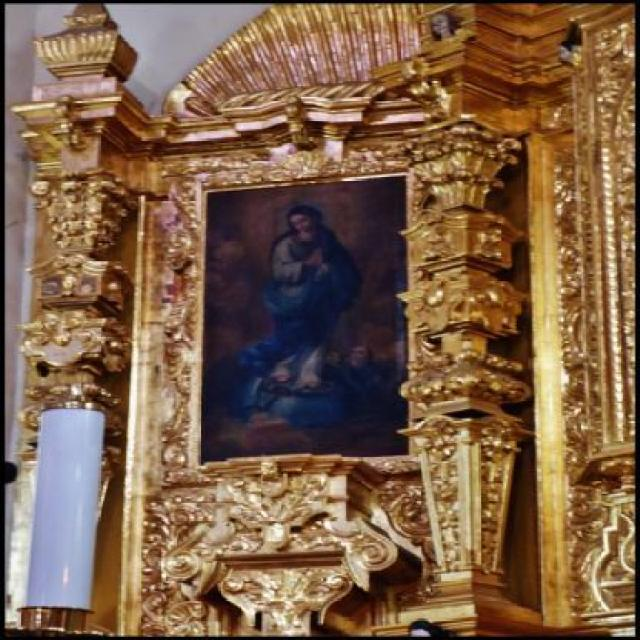Person: (248, 193, 361, 422)
